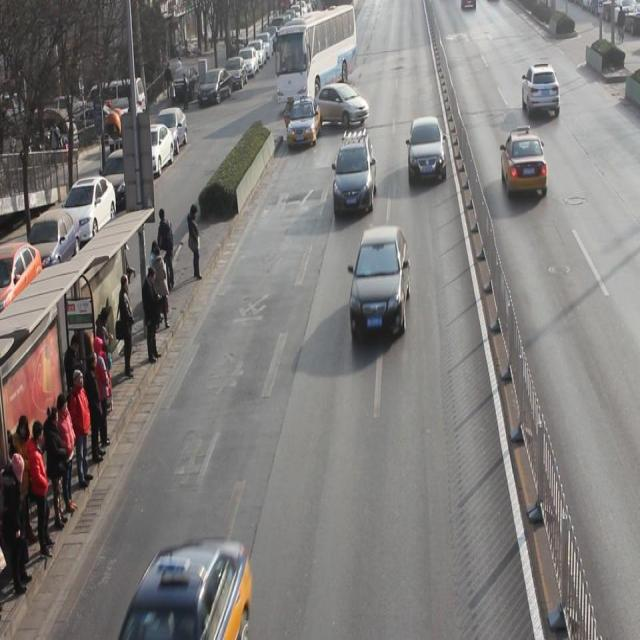car: (119, 538, 252, 640), (348, 225, 411, 339), (333, 132, 378, 215), (502, 131, 548, 198), (310, 83, 369, 130), (408, 117, 447, 185), (522, 65, 560, 119), (286, 96, 322, 148)
van: (276, 11, 355, 109)
